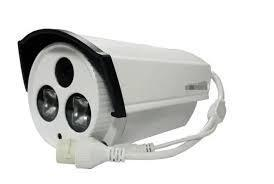tutu: (9, 20, 231, 153)
